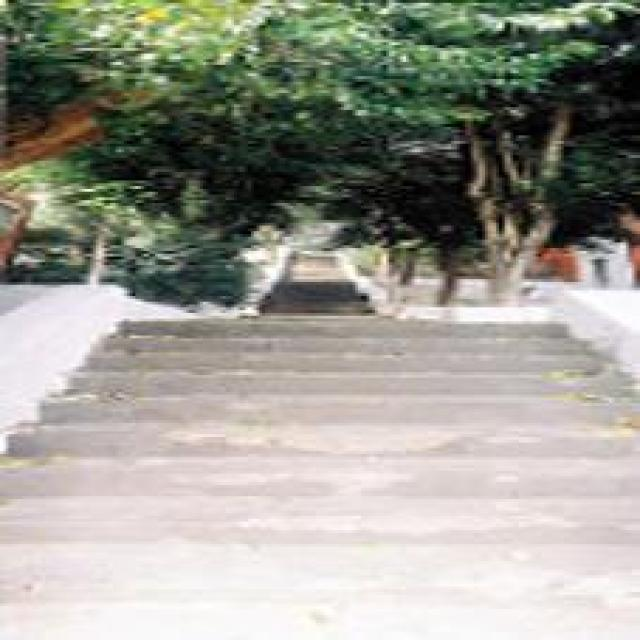downstair: (49, 421, 542, 619)
